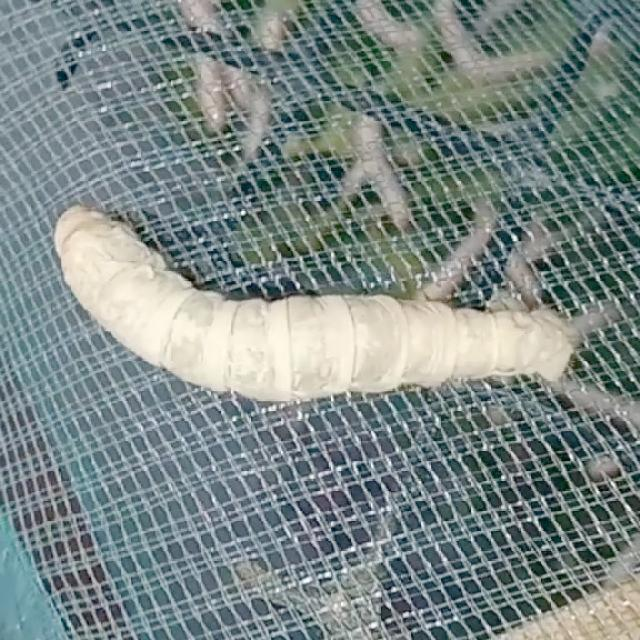Grasserie: (35, 189, 604, 451)
